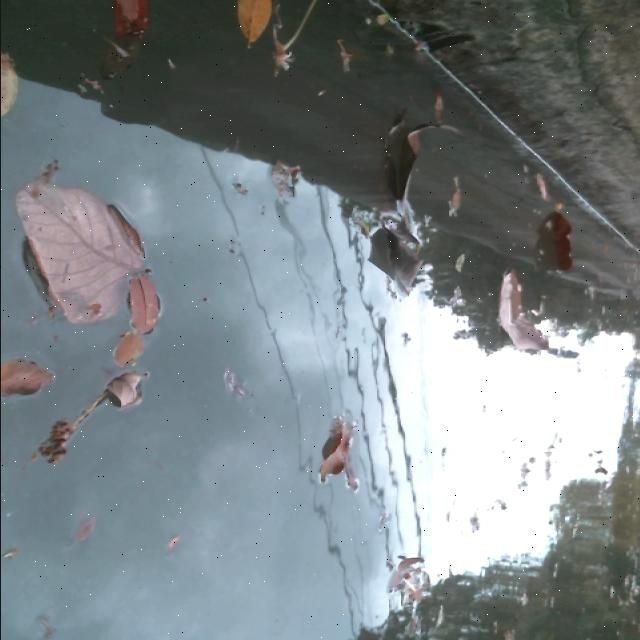Big-leaf: (12, 173, 133, 316), (352, 205, 434, 301), (376, 117, 451, 207), (490, 265, 555, 357), (531, 201, 573, 269)
Small-leaf: (37, 396, 117, 468), (368, 555, 451, 622), (97, 0, 160, 78), (261, 0, 325, 75), (314, 422, 370, 481), (0, 42, 34, 131), (215, 0, 277, 46), (120, 269, 161, 332), (0, 355, 59, 389), (264, 148, 305, 196), (115, 365, 151, 418), (207, 365, 258, 400), (112, 325, 152, 368), (582, 438, 618, 477), (64, 502, 99, 542), (522, 165, 554, 199)
